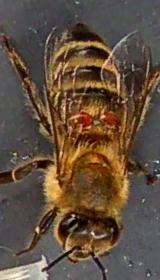varroa_mite: (94, 108, 123, 128), (65, 110, 98, 126)
